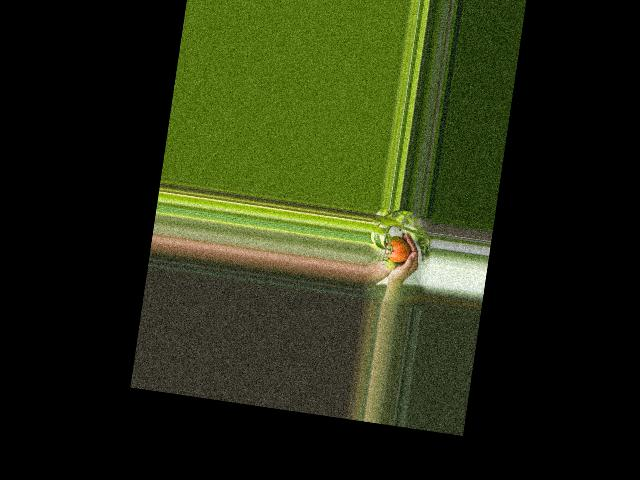tomato: (385, 238, 411, 264)
